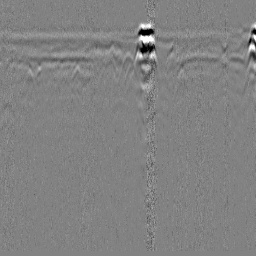cavity: (118, 50, 137, 82)
